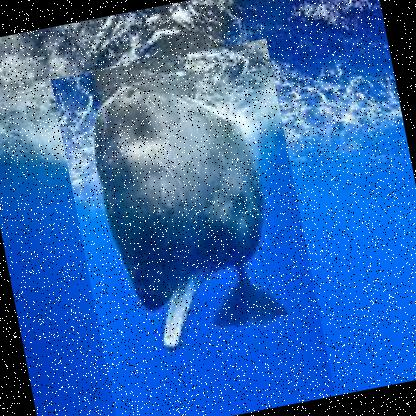sperm_whale: (49, 38, 335, 415)
